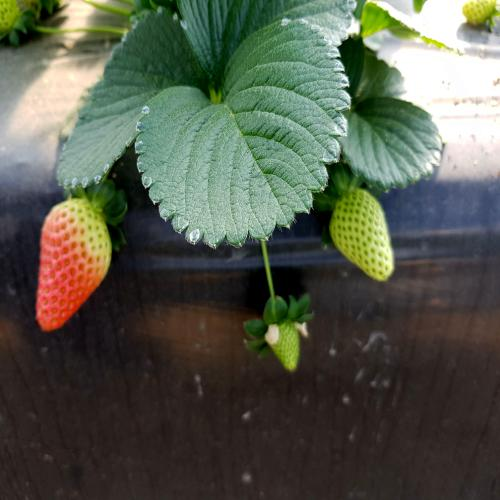partially-ripe: (27, 184, 114, 340)
